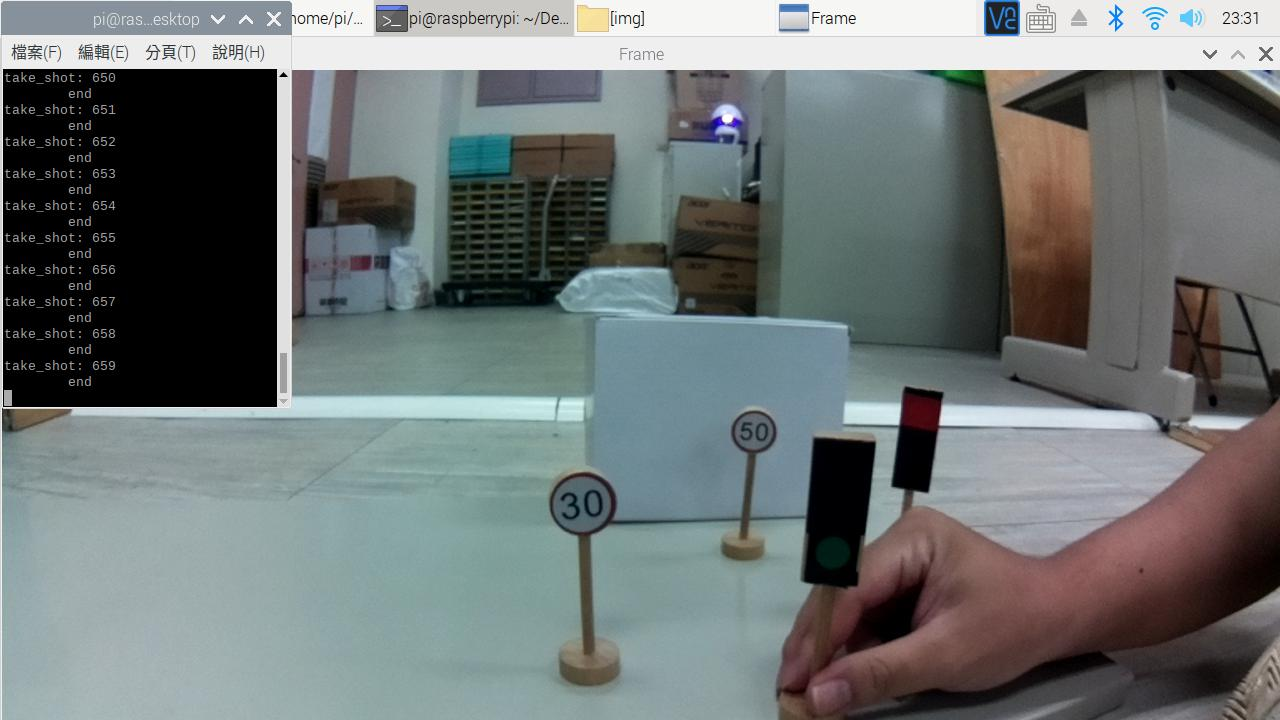Green: (789, 420, 877, 605)
Red: (892, 377, 953, 507)
Speed30: (537, 465, 646, 561)
Speed50: (722, 398, 776, 462)
